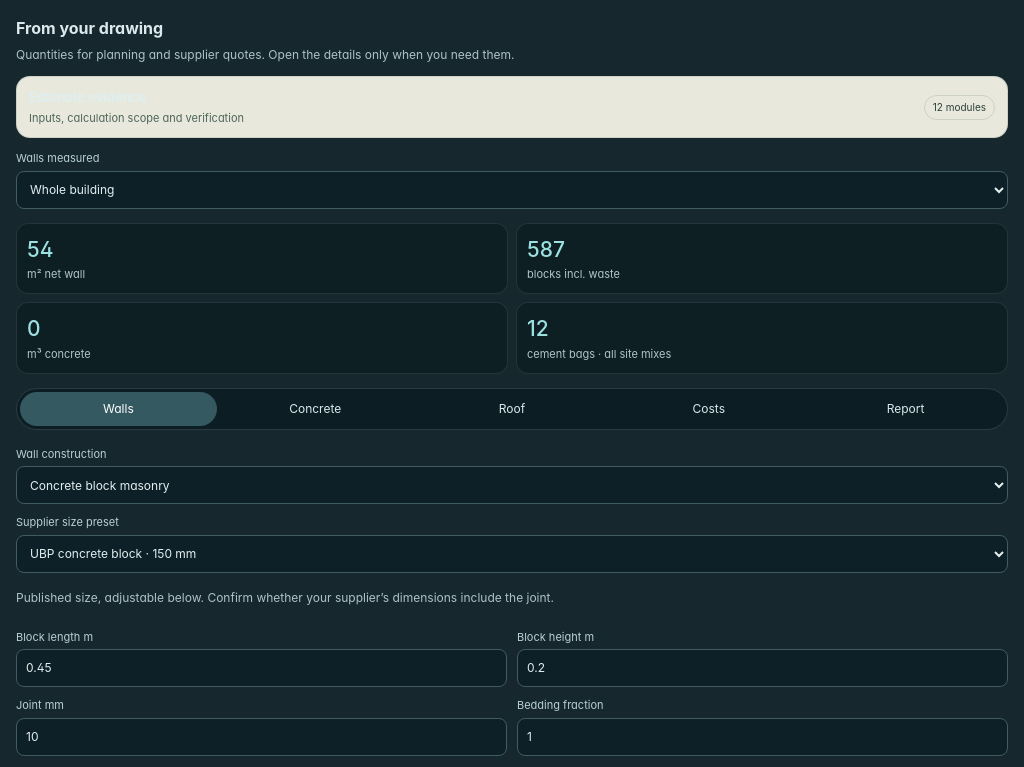
MaterialsPanel real property integration › hides the legacy base inputs while an empty drawn foundation owns the base estimate
Click the button "Concrete" at (315, 408), box [217,392,414,426]
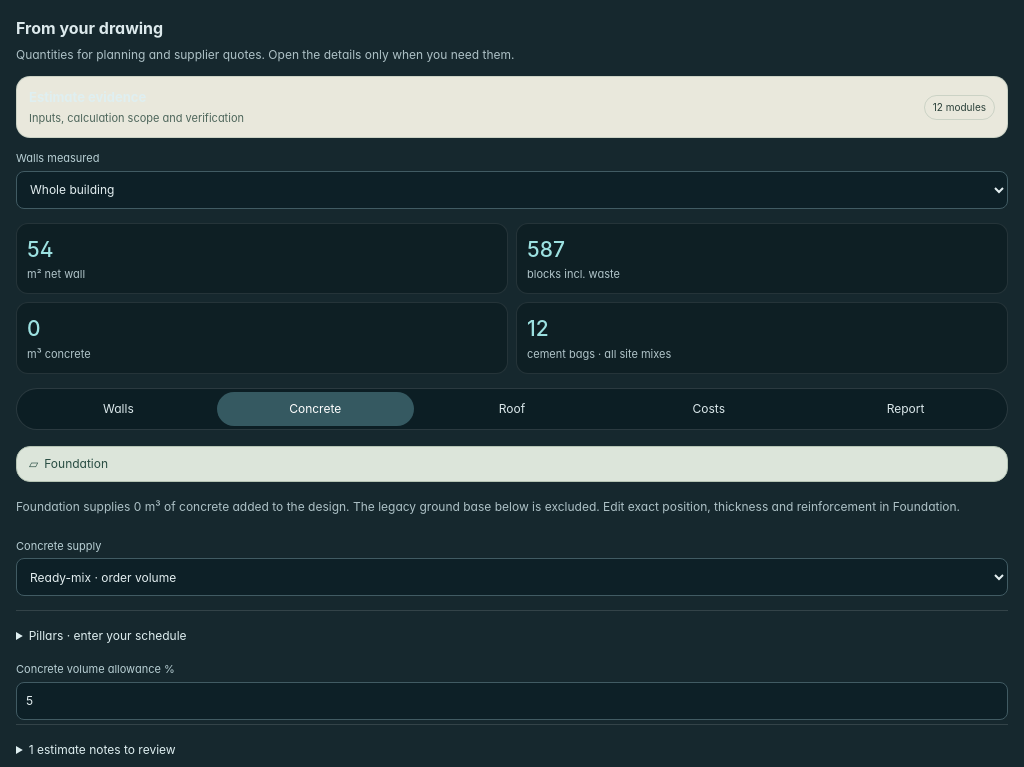
expect the text "Foundation supplies 0 m³" is shown: met, box [16,498,1008,516]
